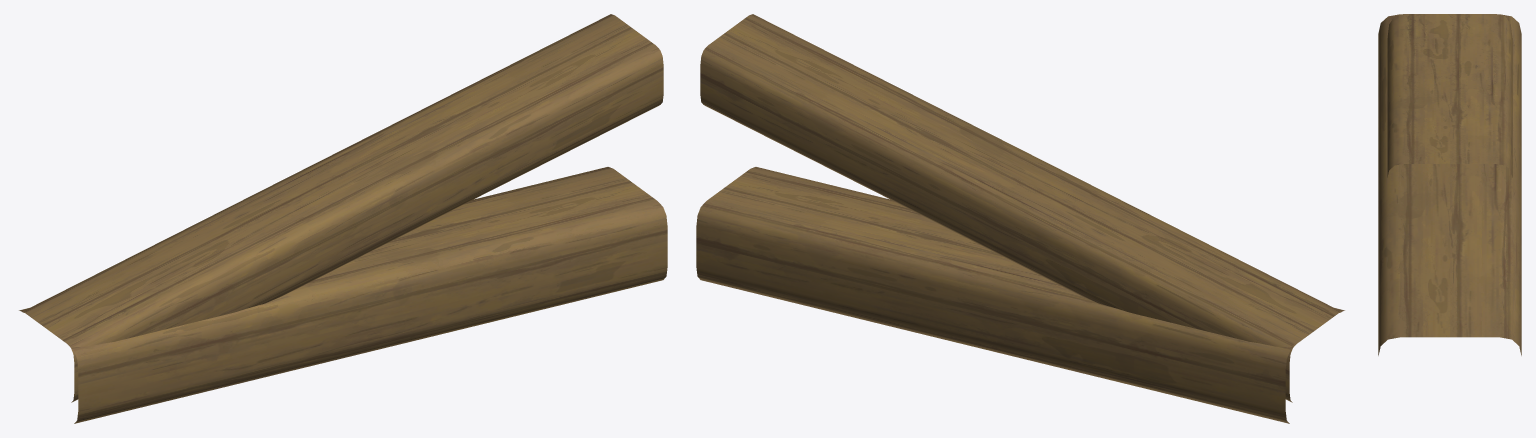
Rendered from SM_roof_frame_01.glb.
3 views of the same model, side by side, from view 1: azimuth 30°, elevation 25°; view 2: azimuth 150°, elevation 25°; view 3: azimuth 270°, elevation 25° (orthographic). The views are drawn at different scales.
Parts seen in each view (by area): view 1: SM_roof_frame_01; view 2: SM_roof_frame_01; view 3: SM_roof_frame_01.
Part boxes in pixels (left/top/right/bottom): SM_roof_frame_01: left=19, top=14, right=667, bottom=423; SM_roof_frame_01: left=696, top=14, right=1344, bottom=423; SM_roof_frame_01: left=1378, top=14, right=1521, bottom=355.
Size of the model in its own units: 3.2 by 1.2 by 0.6.
1 material, 1 textured.
